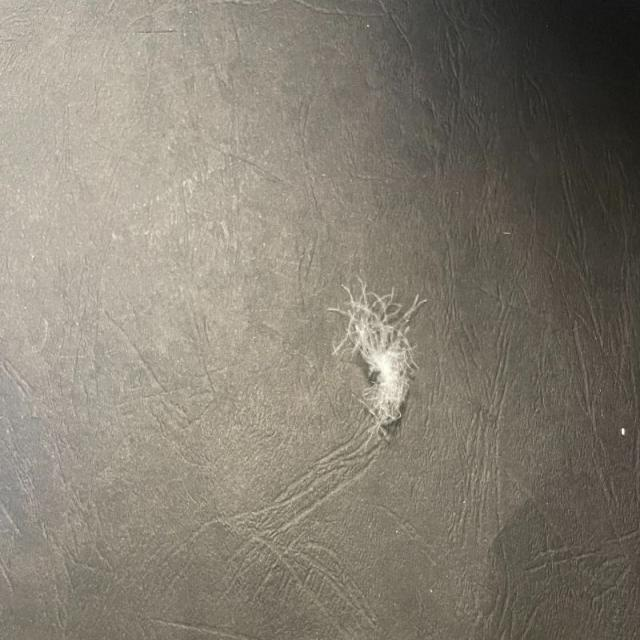feather: (331, 278, 425, 443)
